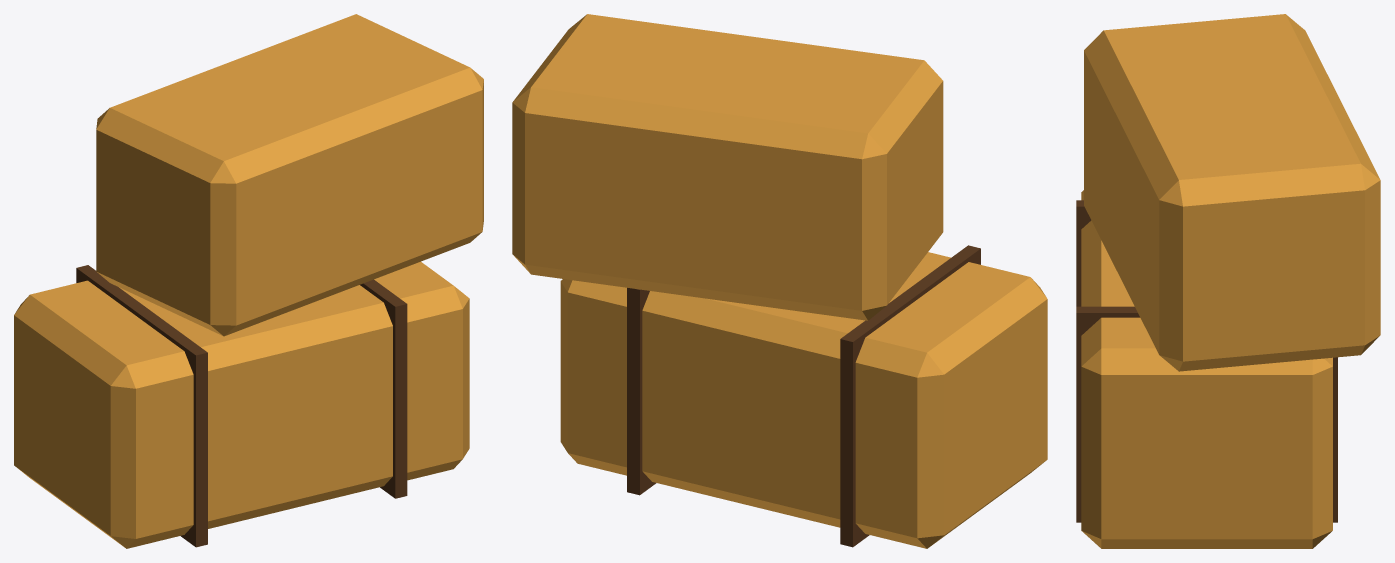
File: PR_Decor_SamanBalyasi.fbx
3 renders of one model, left to right at view 1: azimuth 30°, elevation 25°; view 2: azimuth 150°, elevation 25°; view 3: azimuth 270°, elevation 25°, orthographic. The views are drawn at different scales.
Parts seen in each view (by area): view 1: PR_Decor_SamanBalyasi; view 2: PR_Decor_SamanBalyasi; view 3: PR_Decor_SamanBalyasi.
Boxes of the visible parts, x1=… form: PR_Decor_SamanBalyasi: x1=14, y1=14, x2=483, y2=548; PR_Decor_SamanBalyasi: x1=512, y1=14, x2=1047, y2=548; PR_Decor_SamanBalyasi: x1=1076, y1=14, x2=1380, y2=548.
Bounding box in the file's own units: 1.03 × 0.88 × 0.6049.
